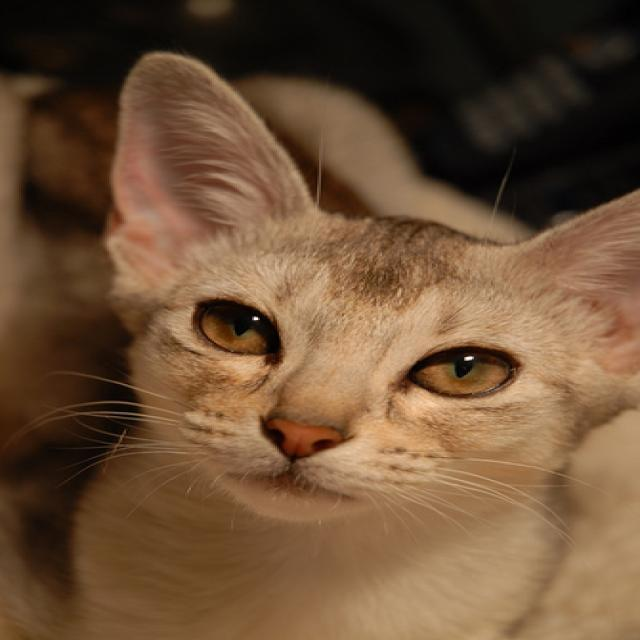Abyssinian: (111, 45, 640, 525)
